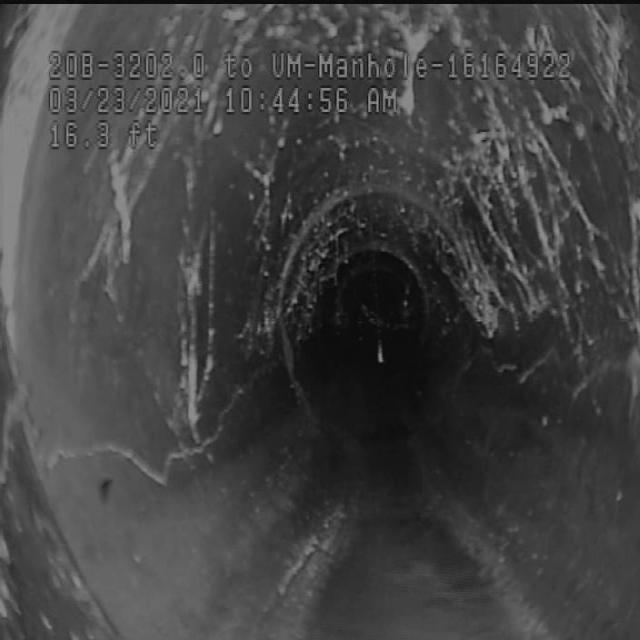Crack: (72, 365, 260, 503)
